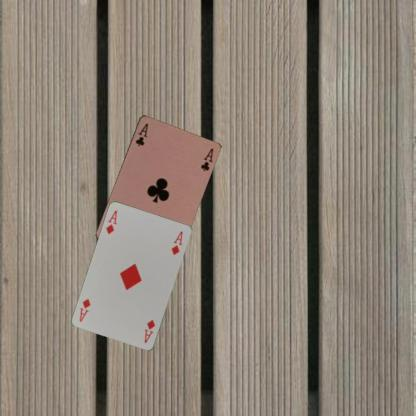Ac: (133, 121, 149, 148)
Ad: (104, 208, 118, 236), (142, 317, 156, 344)
